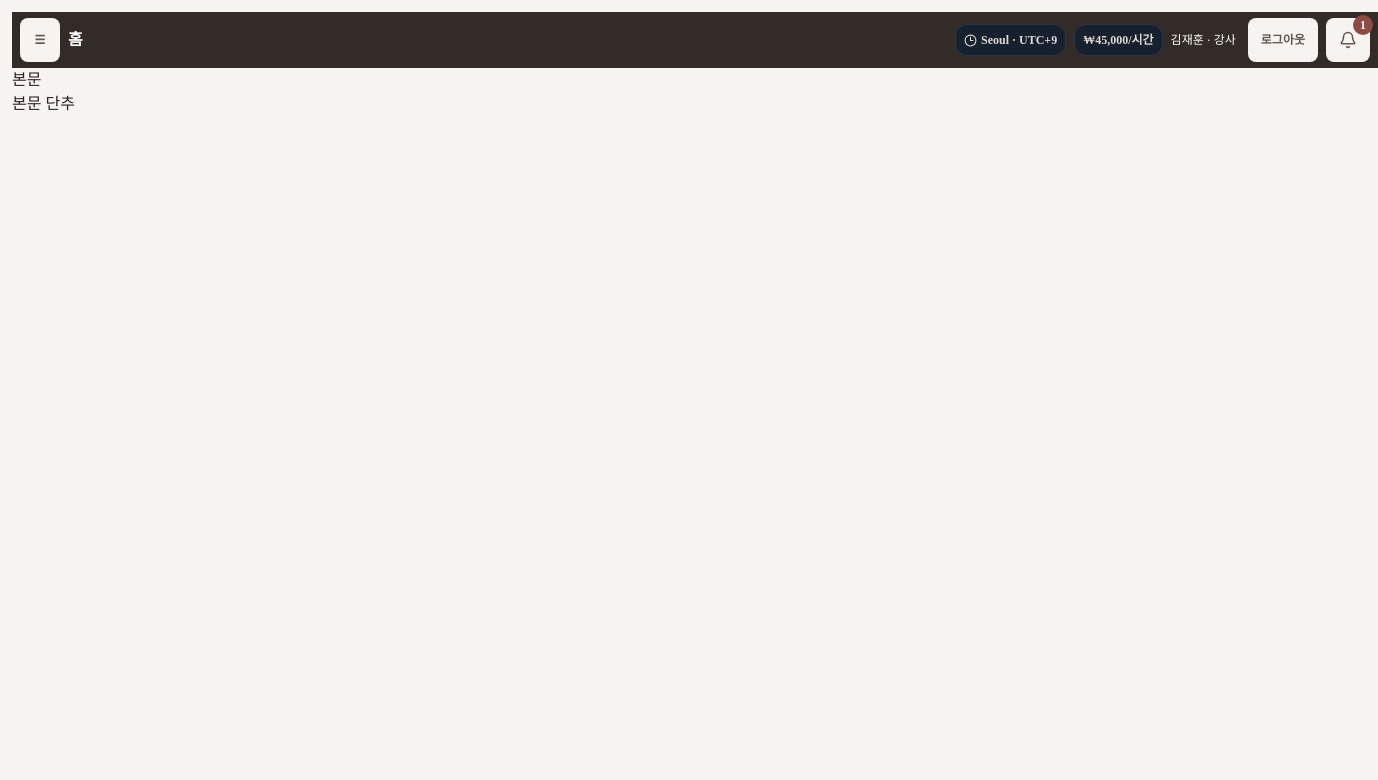
Test: Menu panel — 강사 메뉴 7개 (Figma Teacher/Navigation 7681:21765) › 미작성이 0 이면 배지를 그리지 않는다
Click the button named "메뉴" at (40, 40), box [20,18,60,62]
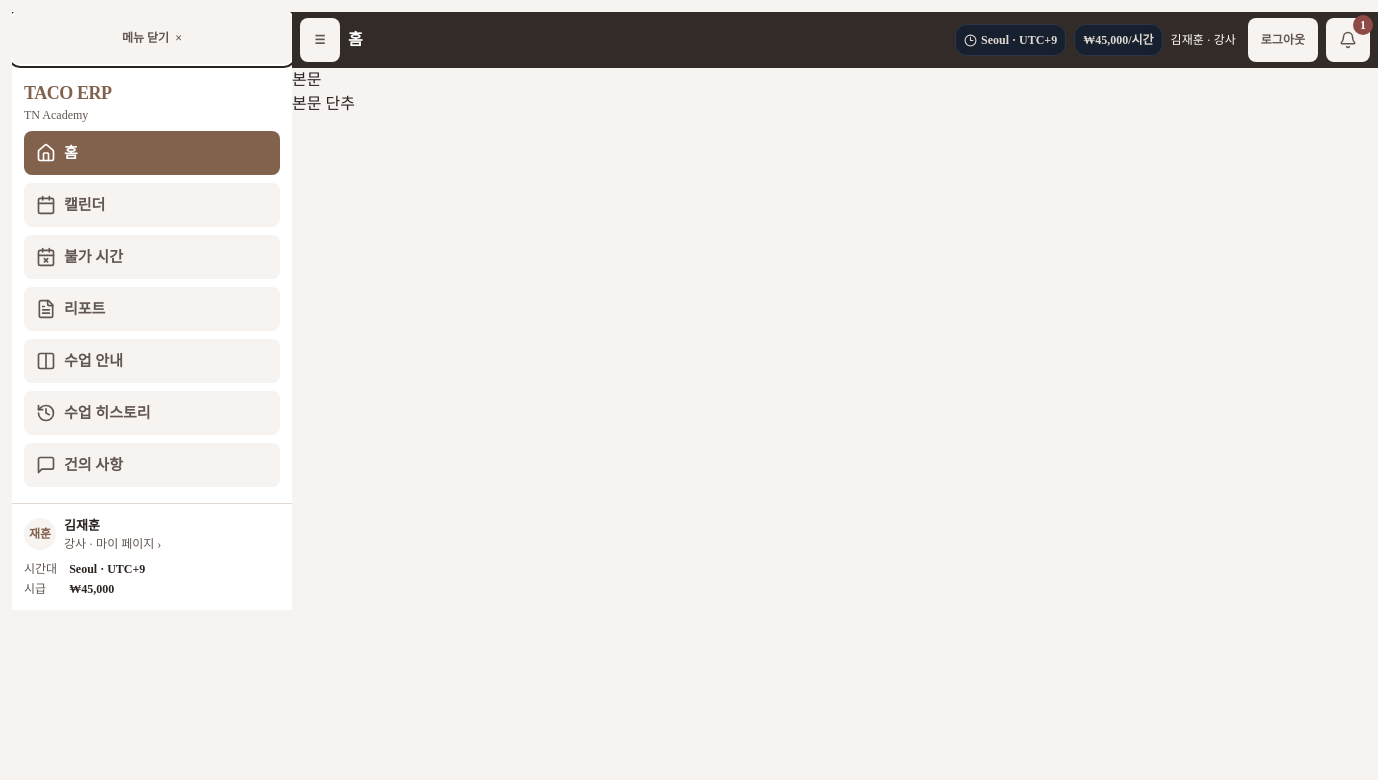
Expected: the link "리포트" is shown, [24,287,280,331]
